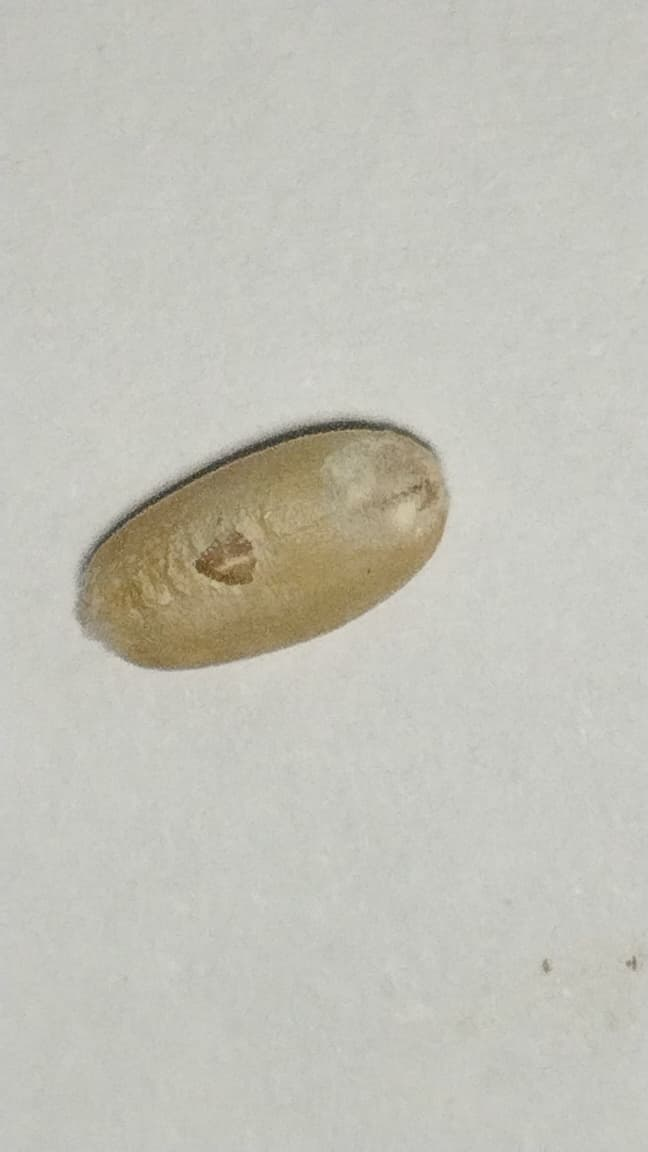damage: (79, 428, 446, 667)
insectdamage: (319, 426, 454, 555), (158, 499, 289, 607)
